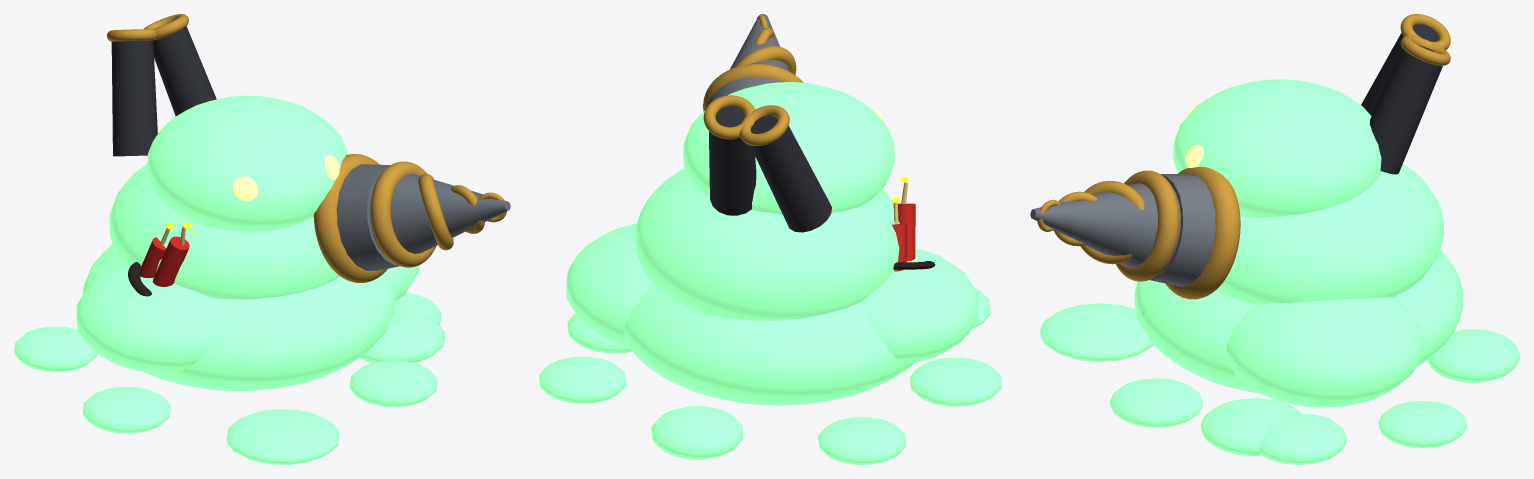
The model's file is enemigo_minero_kamikaze.glb.
3 views of the same model, side by side, from view 1: azimuth 30°, elevation 25°; view 2: azimuth 150°, elevation 25°; view 3: azimuth 270°, elevation 25° (orthographic). The views are drawn at different scales.
Visible parts, largest first — view 1: CabezaJoroba, BaseBulbosa, TorsoMedio, _MeshInstance3D_2, _MeshInstance3D_6, _MeshInstance3D_22, _MeshInstance3D_16, _MeshInstance3D_15, _MeshInstance3D_26, _MeshInstance3D_5, _MeshInstance3D_7, _MeshInstance3D_14 (+11 smaller); view 2: TorsoMedio, BaseBulbosa, CabezaJoroba, _MeshInstance3D_2, _MeshInstance3D_3, _MeshInstance3D_22, _MeshInstance3D_9, _MeshInstance3D_26, _MeshInstance3D_7, _MeshInstance3D_8, _MeshInstance3D_10, _MeshInstance3D_17 (+7 smaller); view 3: CabezaJoroba, TorsoMedio, _MeshInstance3D_3, BaseBulbosa, _MeshInstance3D_16, _MeshInstance3D_6, _MeshInstance3D_26, _MeshInstance3D_15, _MeshInstance3D_14, _MeshInstance3D_9, _MeshInstance3D_5, _MeshInstance3D_11 (+7 smaller).
Boxes of the visible parts, x1=… form: CabezaJoroba: x1=147, y1=95, x2=348, y2=231; BaseBulbosa: x1=82, y1=244, x2=395, y2=391; TorsoMedio: x1=109, y1=164, x2=339, y2=299; _MeshInstance3D_2: x1=76, y1=265, x2=218, y2=372; _MeshInstance3D_6: x1=226, y1=409, x2=339, y2=464; _MeshInstance3D_22: x1=111, y1=40, x2=157, y2=156; _MeshInstance3D_16: x1=369, y1=173, x2=510, y2=254; _MeshInstance3D_15: x1=336, y1=164, x2=399, y2=270; _MeshInstance3D_26: x1=153, y1=26, x2=216, y2=116; _MeshInstance3D_5: x1=350, y1=360, x2=437, y2=407; _MeshInstance3D_7: x1=83, y1=387, x2=170, y2=433; _MeshInstance3D_14: x1=313, y1=154, x2=387, y2=282; TorsoMedio: x1=635, y1=168, x2=899, y2=320; BaseBulbosa: x1=623, y1=283, x2=913, y2=405; CabezaJoroba: x1=683, y1=82, x2=894, y2=214; _MeshInstance3D_2: x1=859, y1=249, x2=978, y2=363; _MeshInstance3D_3: x1=566, y1=223, x2=652, y2=347; _MeshInstance3D_22: x1=750, y1=115, x2=831, y2=232; _MeshInstance3D_9: x1=651, y1=406, x2=743, y2=459; _MeshInstance3D_26: x1=709, y1=106, x2=756, y2=215; _MeshInstance3D_7: x1=910, y1=357, x2=1001, y2=406; _MeshInstance3D_8: x1=818, y1=417, x2=905, y2=464; _MeshInstance3D_10: x1=539, y1=356, x2=626, y2=403; _MeshInstance3D_17: x1=703, y1=64, x2=803, y2=111; CabezaJoroba: x1=1173, y1=79, x2=1381, y2=217; TorsoMedio: x1=1215, y1=163, x2=1443, y2=304; _MeshInstance3D_3: x1=1226, y1=297, x2=1423, y2=407; BaseBulbosa: x1=1134, y1=250, x2=1463, y2=393; _MeshInstance3D_16: x1=1030, y1=183, x2=1180, y2=270; _MeshInstance3D_6: x1=1040, y1=303, x2=1153, y2=361; _MeshInstance3D_26: x1=1370, y1=45, x2=1442, y2=174; _MeshInstance3D_15: x1=1150, y1=174, x2=1215, y2=286; _MeshInstance3D_14: x1=1165, y1=166, x2=1240, y2=299; _MeshInstance3D_9: x1=1427, y1=329, x2=1519, y2=382; _MeshInstance3D_5: x1=1110, y1=378, x2=1202, y2=427; _MeshInstance3D_11: x1=1201, y1=398, x2=1301, y2=456.
Size of the model in its own units: 1.87 by 1.52 by 2.02.
